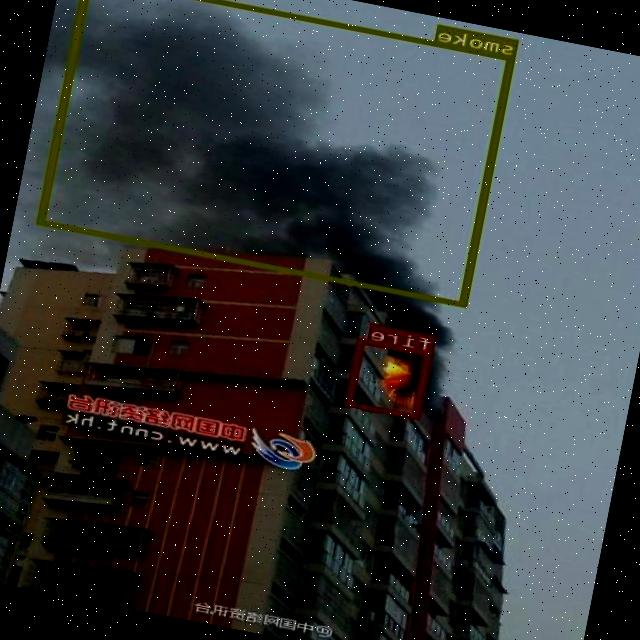fire: (346, 338, 433, 419)
smoke: (38, 0, 516, 307)
